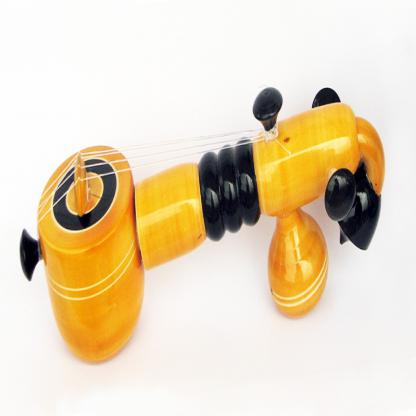Veena: (13, 98, 386, 270)
